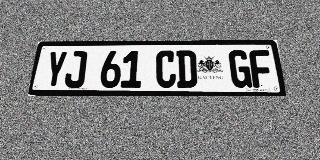1: (121, 51, 142, 88)
6: (100, 51, 122, 88)
C: (156, 50, 176, 88)
D: (176, 50, 197, 88)
F: (249, 50, 274, 88)
G: (228, 50, 252, 88)
J: (63, 51, 88, 88)
Y: (43, 51, 68, 88)
